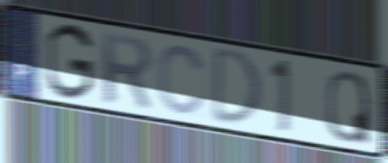1: (267, 58, 293, 136)
C: (157, 42, 208, 118)
D: (210, 44, 265, 128)
G: (43, 21, 96, 103)
Q: (325, 68, 374, 148)
R: (97, 28, 154, 111)
